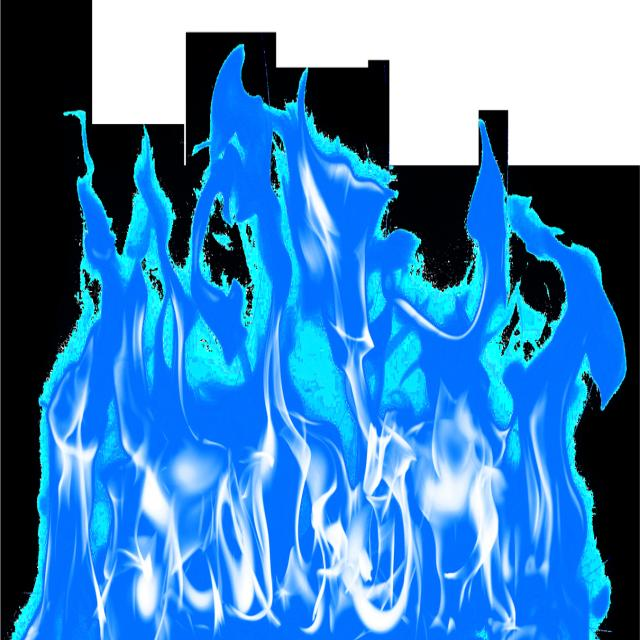fire: (55, 381, 416, 626)
